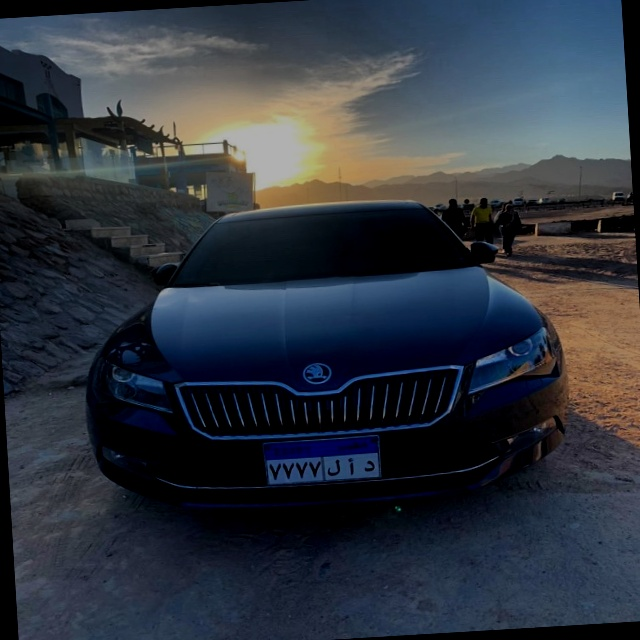License Plate: (260, 433, 385, 491)
